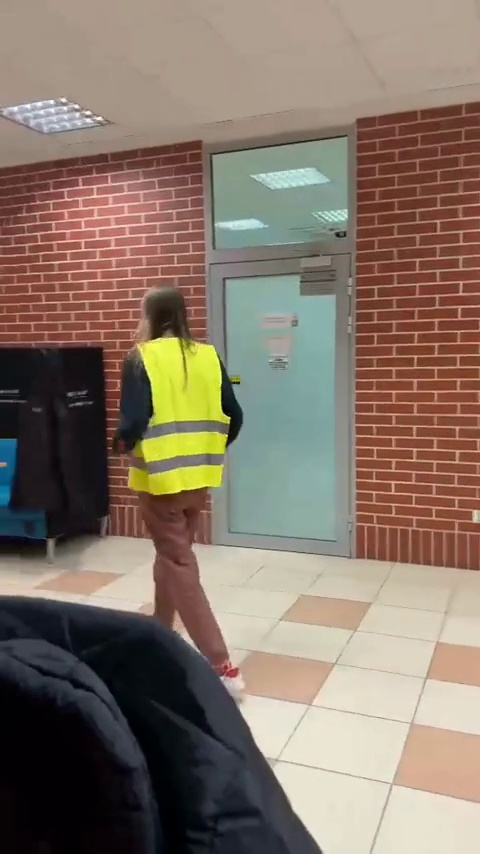vest: (110, 283, 257, 695)
